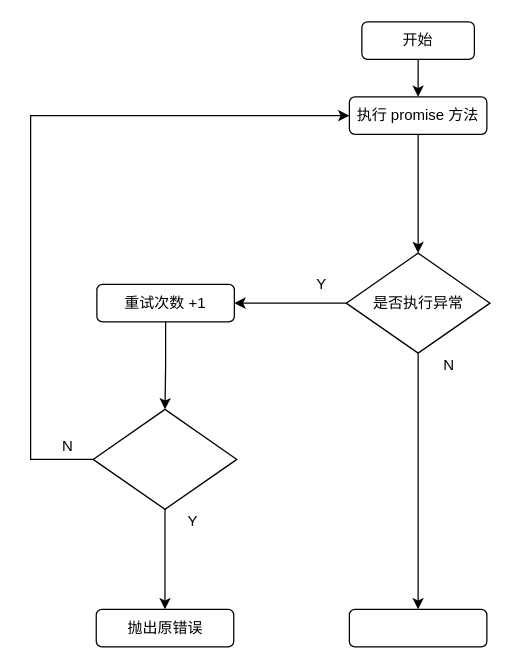
This 513x669 diagram has some shape labels left out. Each missing label, with the centre of its shape:
"是否超过最大重试次数？" belongs at pixel 164 458.
"返回结果" belongs at pixel 417 627.
